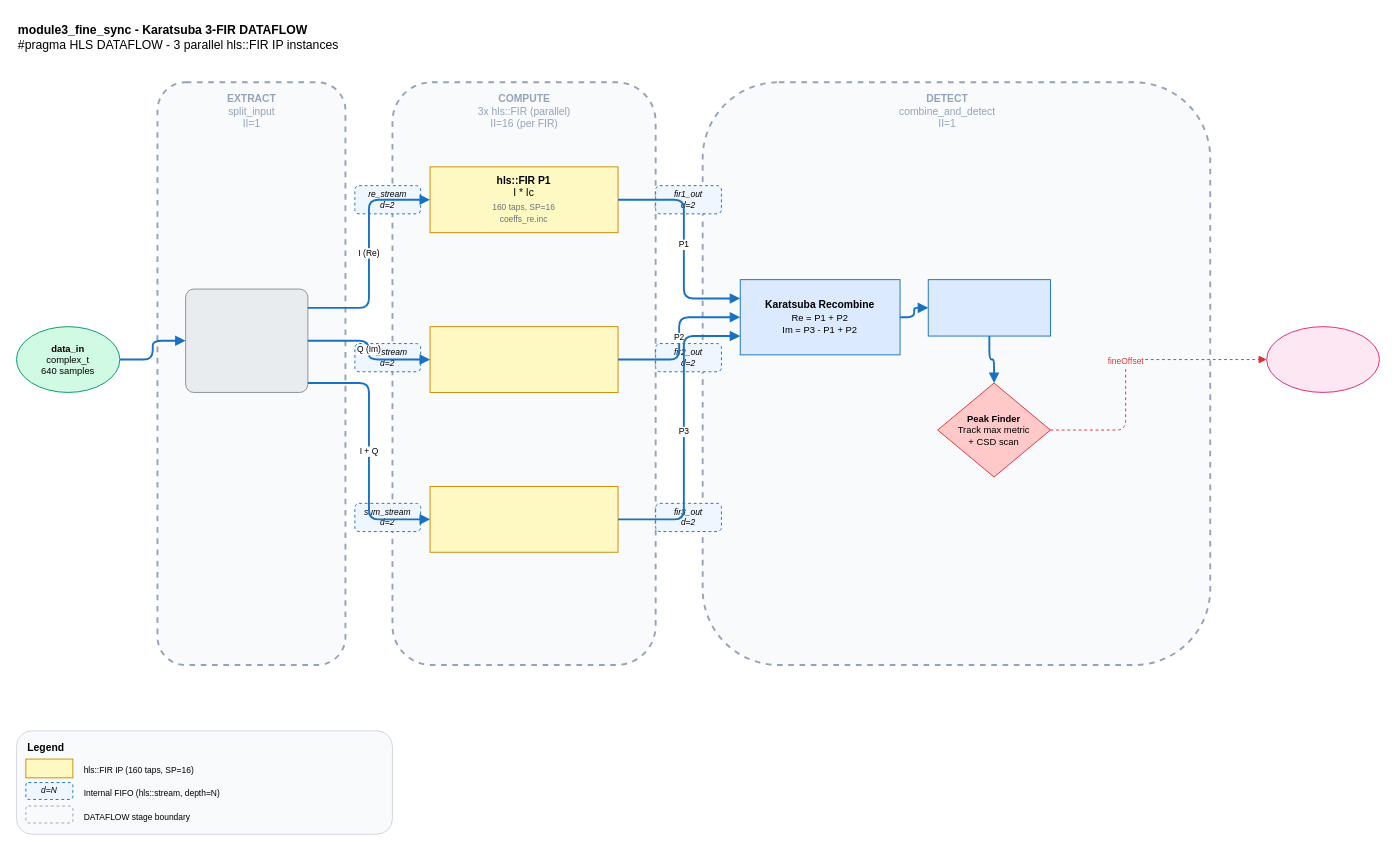
Image size: 1396x851. Some labels were removed from this diagram. Here are the shapes that lost their labels. From the top down, the centre of each, then its label:
At point (988, 307): "|corr|^2 Re^2 + Im^2".
At point (246, 340): "split_input complex -> 3 reals I = Re(x) Q = Im(x) S = I + Q".
At point (523, 359): "hls::FIR P2 Q * (-Qc) 160 taps, SP=16 coeffs_im.inc".
At point (1322, 359): "fineOffset_out index_t (scalar)".
At point (523, 519): "hls::FIR P3 (I+Q) * (Ic-Qc) 160 taps, SP=16 coeffs_sum.inc".
At point (49, 768): "FIR IP".
